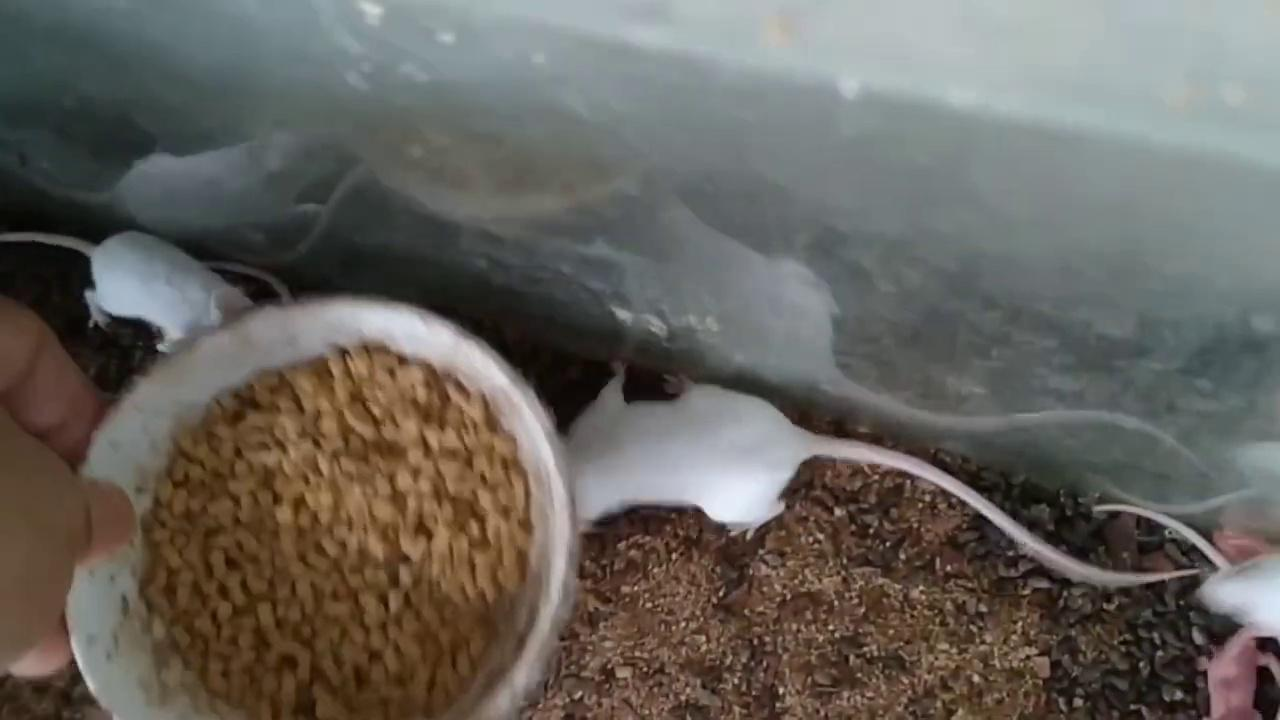rat: (555, 363, 1199, 588), (3, 226, 255, 357), (1200, 546, 1280, 636)
